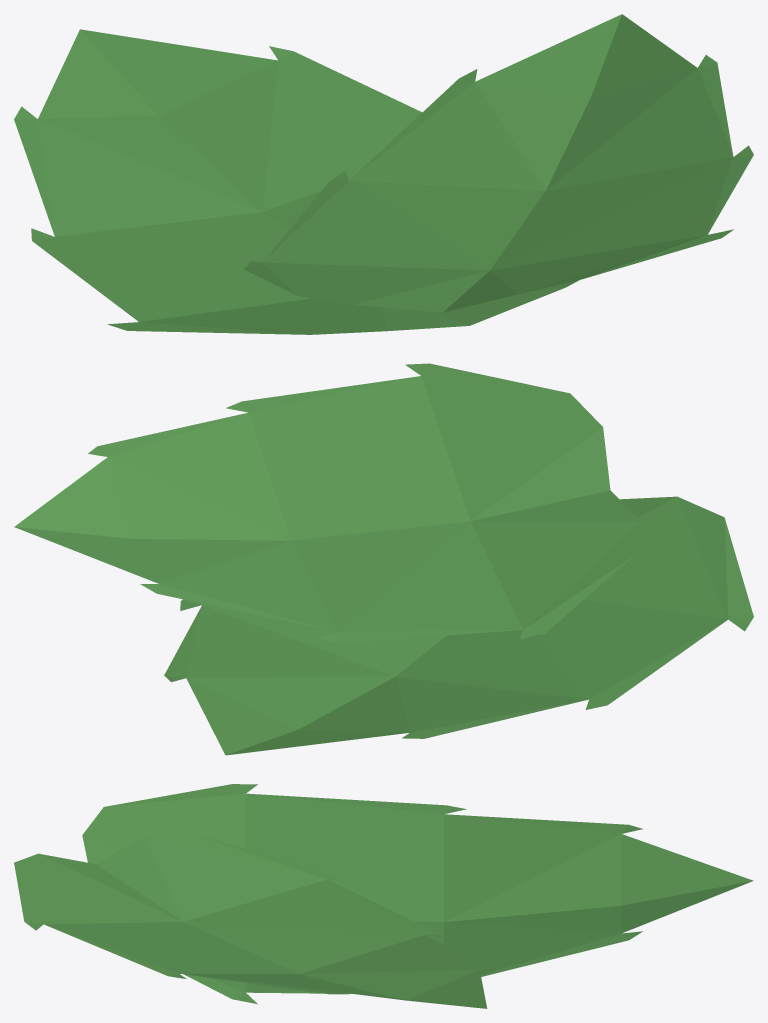
The model's file is SM_MintLeaves.fbx.
3 views of the same model, one above another, from view 1: azimuth 30°, elevation 25°; view 2: azimuth 150°, elevation 25°; view 3: azimuth 270°, elevation 25° (orthographic). The views are drawn at different scales.
Parts seen in each view (by area): view 1: Mint_Leaves; view 2: Mint_Leaves; view 3: Mint_Leaves.
Boxes of the visible parts, left/top/right/bottom form: Mint_Leaves: left=14, top=14, right=753, bottom=334; Mint_Leaves: left=14, top=363, right=753, bottom=755; Mint_Leaves: left=14, top=784, right=753, bottom=1008.
Size of the model in its own units: 0.1621 by 0.0247 by 0.1875.
